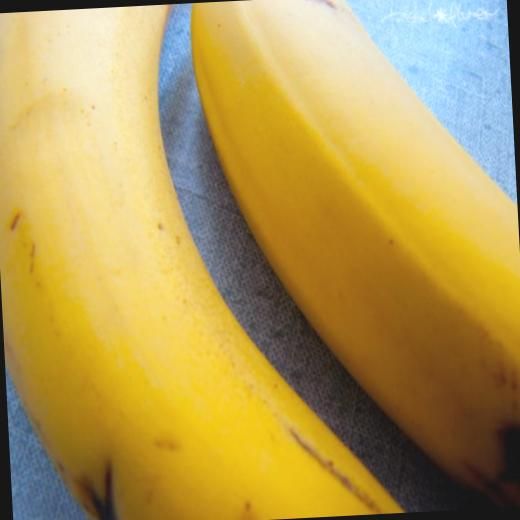Banana: (0, 0, 405, 520), (189, 0, 520, 520)
